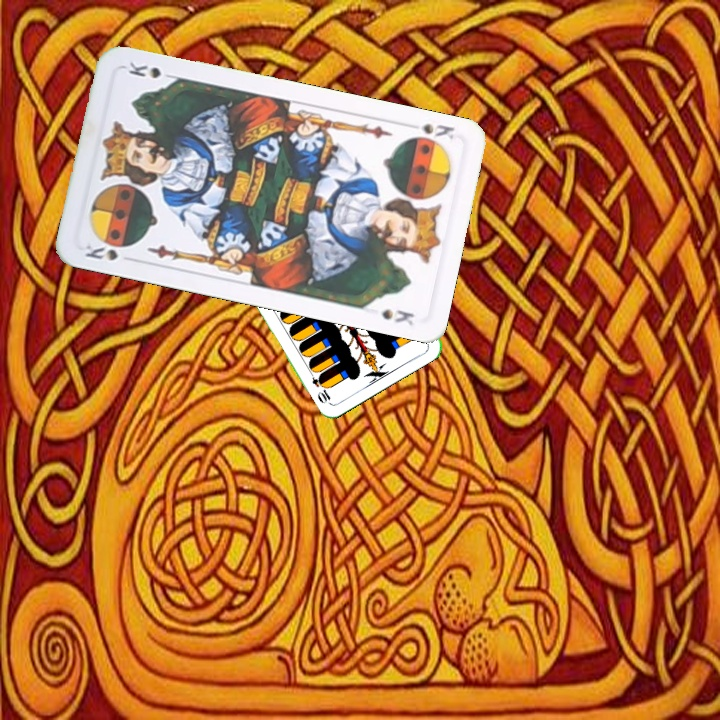SK: (80, 236, 135, 264), (417, 119, 461, 143)
